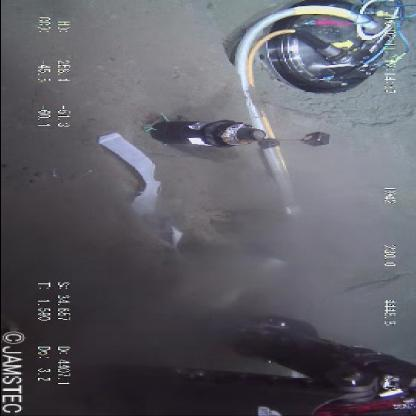Rov: (166, 312, 414, 416), (224, 0, 414, 96), (134, 111, 336, 150)
Rác: (84, 134, 246, 306)
